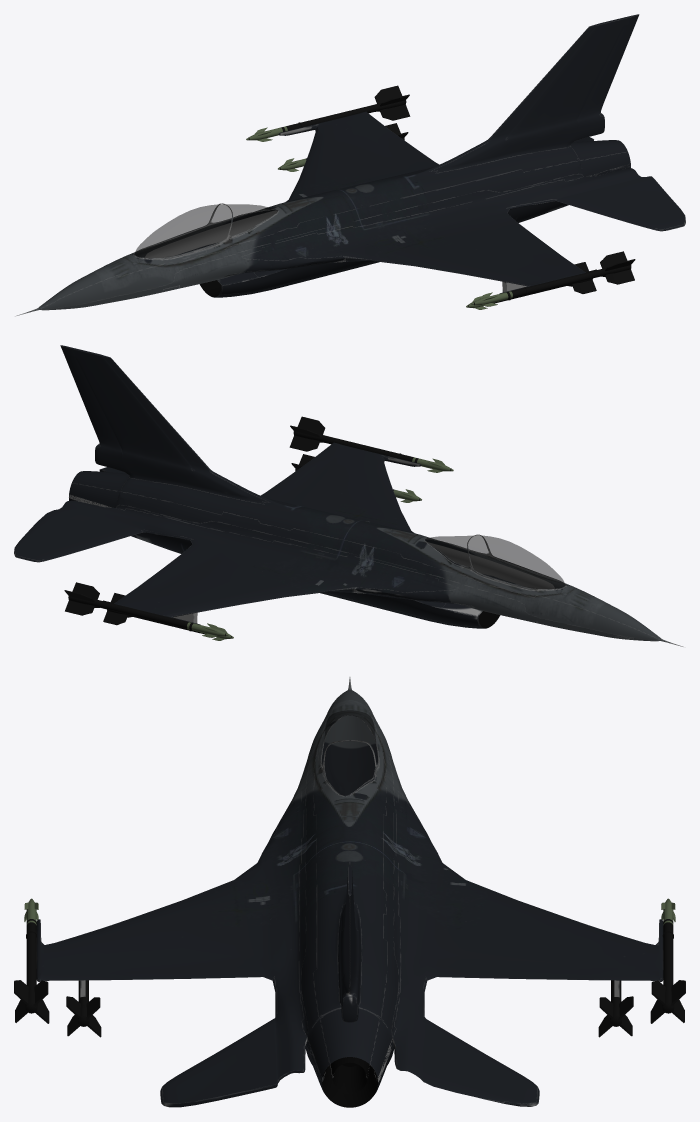
3 views of the same model, one above another, from view 1: azimuth 30°, elevation 25°; view 2: azimuth 150°, elevation 25°; view 3: azimuth 270°, elevation 25° (orthographic). The views are drawn at different scales.
Visible parts, largest first — view 1: Cylinder.001, r-13m.002, r-13m.001; view 2: Cylinder.001, r-13m.002, r-13m.001; view 3: Cylinder.001, r-13m.002, r-13m.001.
Boxes of the visible parts, <box> form: Cylinder.001: <box>15,14,685,316</box>; r-13m.002: <box>246,85,635,306</box>; r-13m.001: <box>278,123,596,309</box>; Cylinder.001: <box>14,345,683,646</box>; r-13m.002: <box>64,416,453,637</box>; r-13m.001: <box>103,454,421,640</box>; Cylinder.001: <box>36,677,663,1107</box>; r-13m.002: <box>14,898,685,1023</box>; r-13m.001: <box>66,980,633,1037</box>.
Size of the model in its own units: 2.52 by 0.6957 by 1.66.
5 materials, 1 textured.
